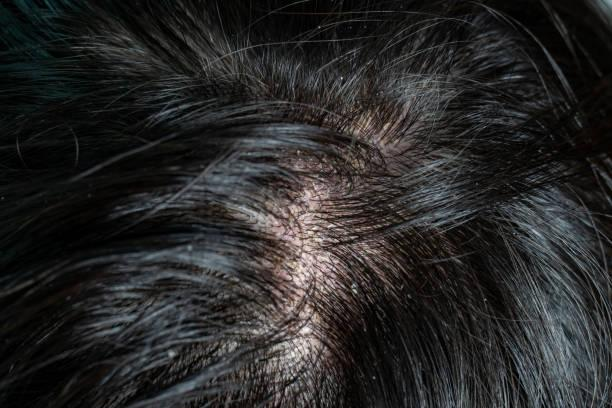dandruff: (171, 235, 207, 259), (282, 140, 304, 169), (344, 275, 358, 302), (340, 68, 355, 88), (161, 351, 184, 363), (311, 21, 324, 32)
